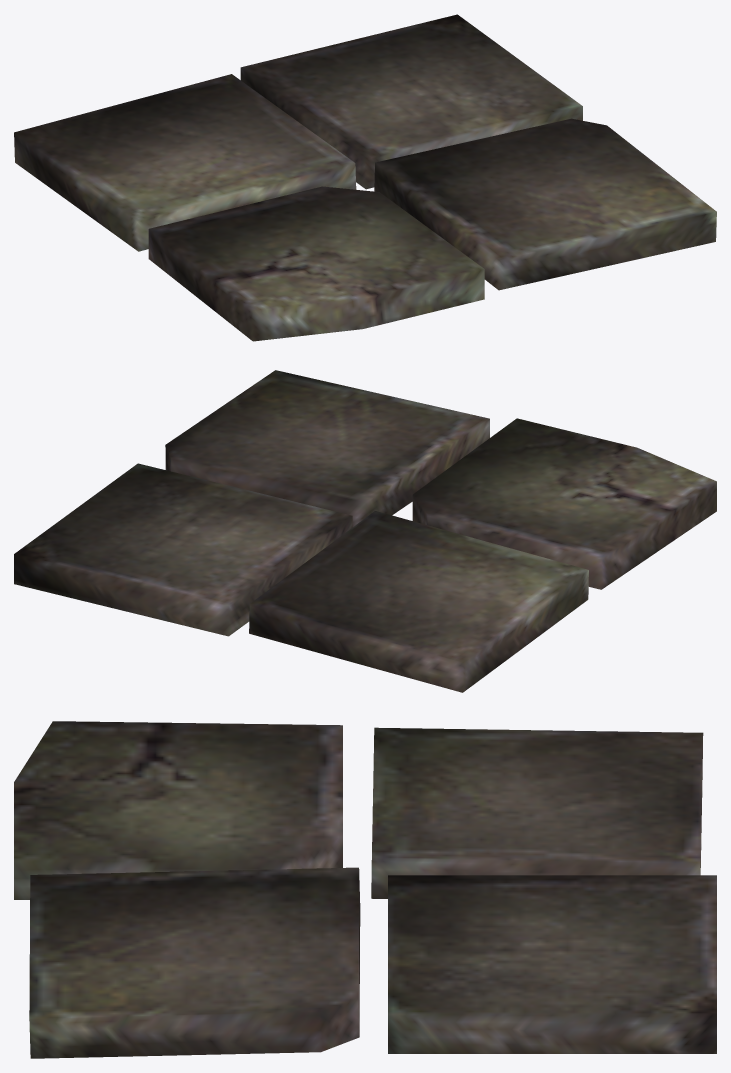
File: Scene_Floor_01.FBX
3 renders of one model, top to bottom at view 1: azimuth 30°, elevation 25°; view 2: azimuth 150°, elevation 25°; view 3: azimuth 270°, elevation 25°, orthographic. The views are drawn at different scales.
Visible parts, largest first — view 1: Scene_Floor_01; view 2: Scene_Floor_01; view 3: Scene_Floor_01.
Boxes of the visible parts, <box> form: Scene_Floor_01: <box>14,14,716,341</box>; Scene_Floor_01: <box>14,370,716,692</box>; Scene_Floor_01: <box>14,721,716,1058</box>.
Bounding box in the file's own units: 3.48 × 0.2933 × 3.52.
